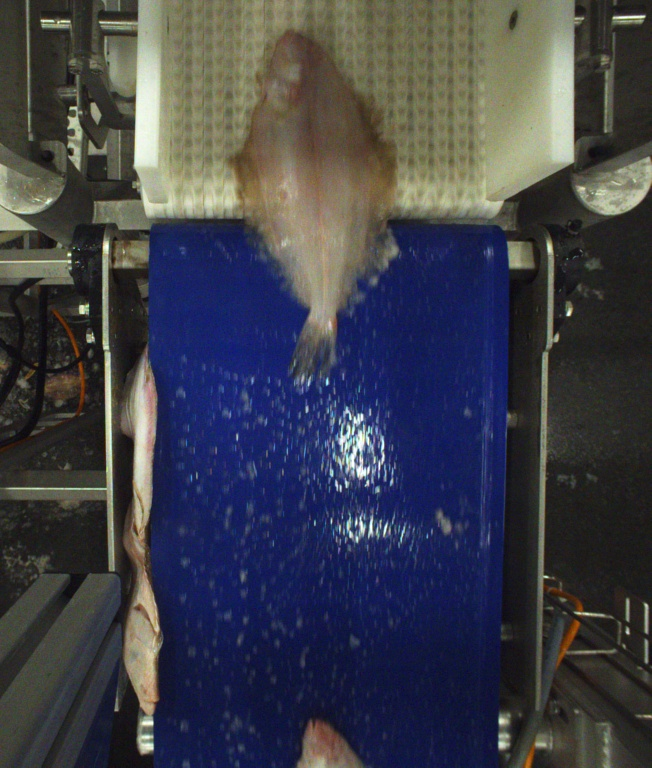WIT: (229, 24, 400, 390)
